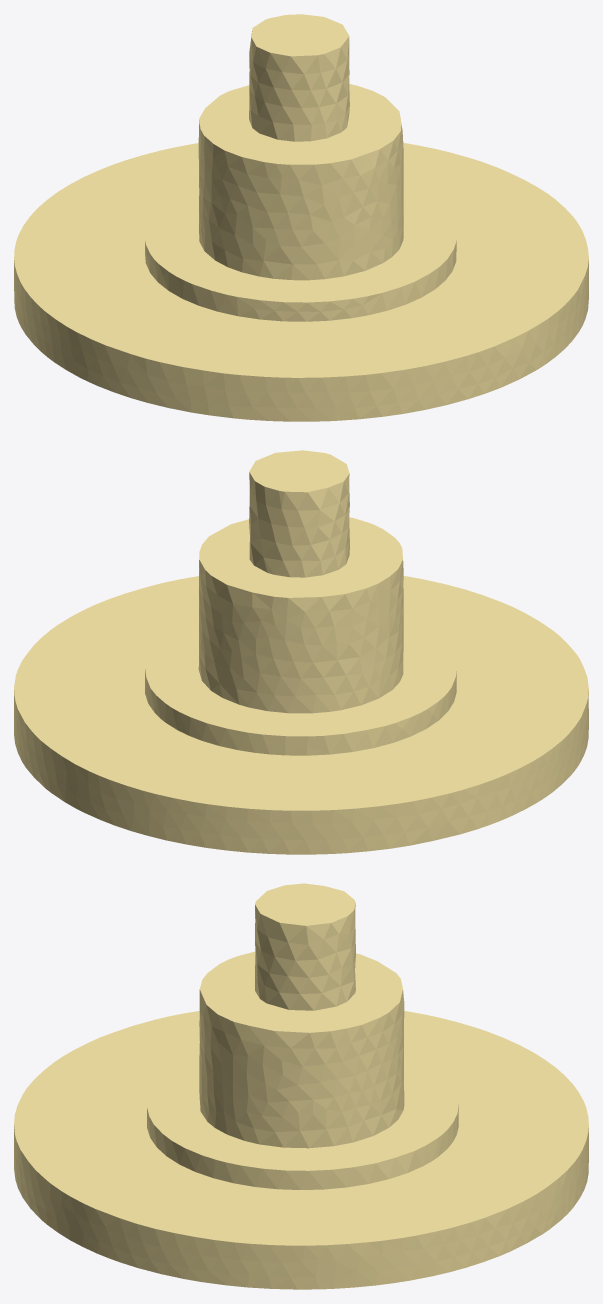
Rendered from input.gltf.
3 views of the same model, one above another, from view 1: azimuth 30°, elevation 25°; view 2: azimuth 150°, elevation 25°; view 3: azimuth 270°, elevation 25° (orthographic).
Parts seen in each view (by area): view 1: Renderer Node; view 2: Renderer Node; view 3: Renderer Node.
Boxes of the visible parts, box(x1,y1,x2,y2) form: Renderer Node: box(14, 14, 588, 421); Renderer Node: box(14, 450, 588, 854); Renderer Node: box(14, 883, 588, 1289).
Bounding box in the file's own units: 1.48 × 0.75 × 1.48.
